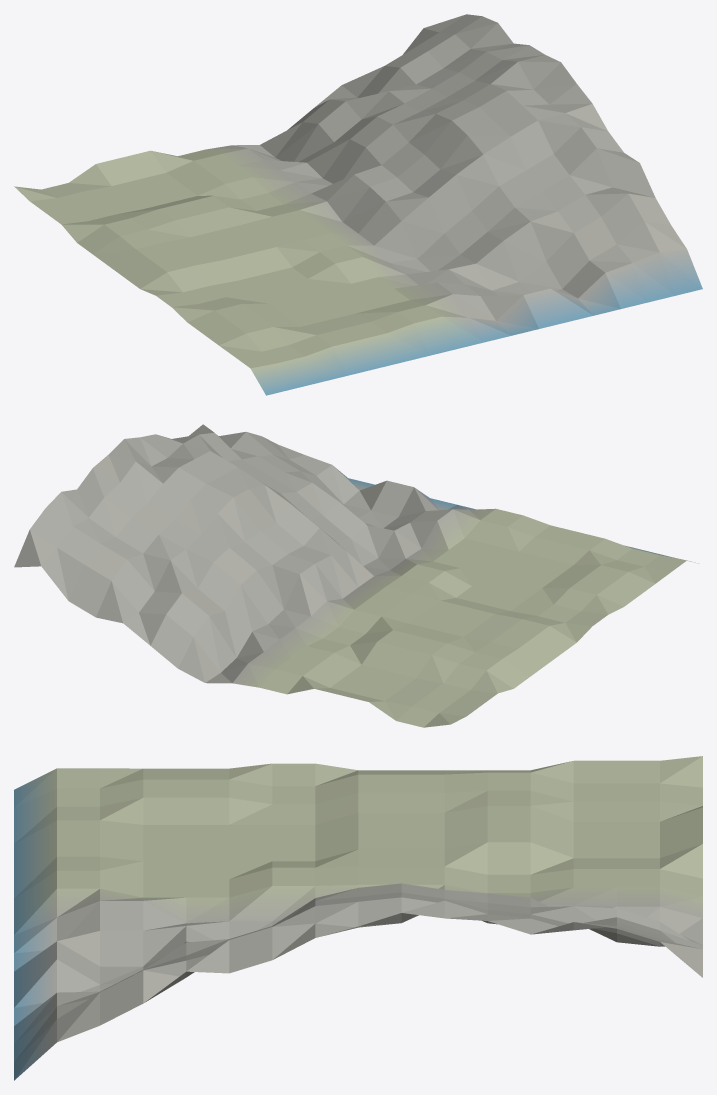
The picture shows the model from 3 angles, top to bottom: view 1: azimuth 30°, elevation 25°; view 2: azimuth 150°, elevation 25°; view 3: azimuth 270°, elevation 25°; orthographic projection. The views are drawn at different scales.
Size of the model in its own units: 32 by 8.61 by 32.
